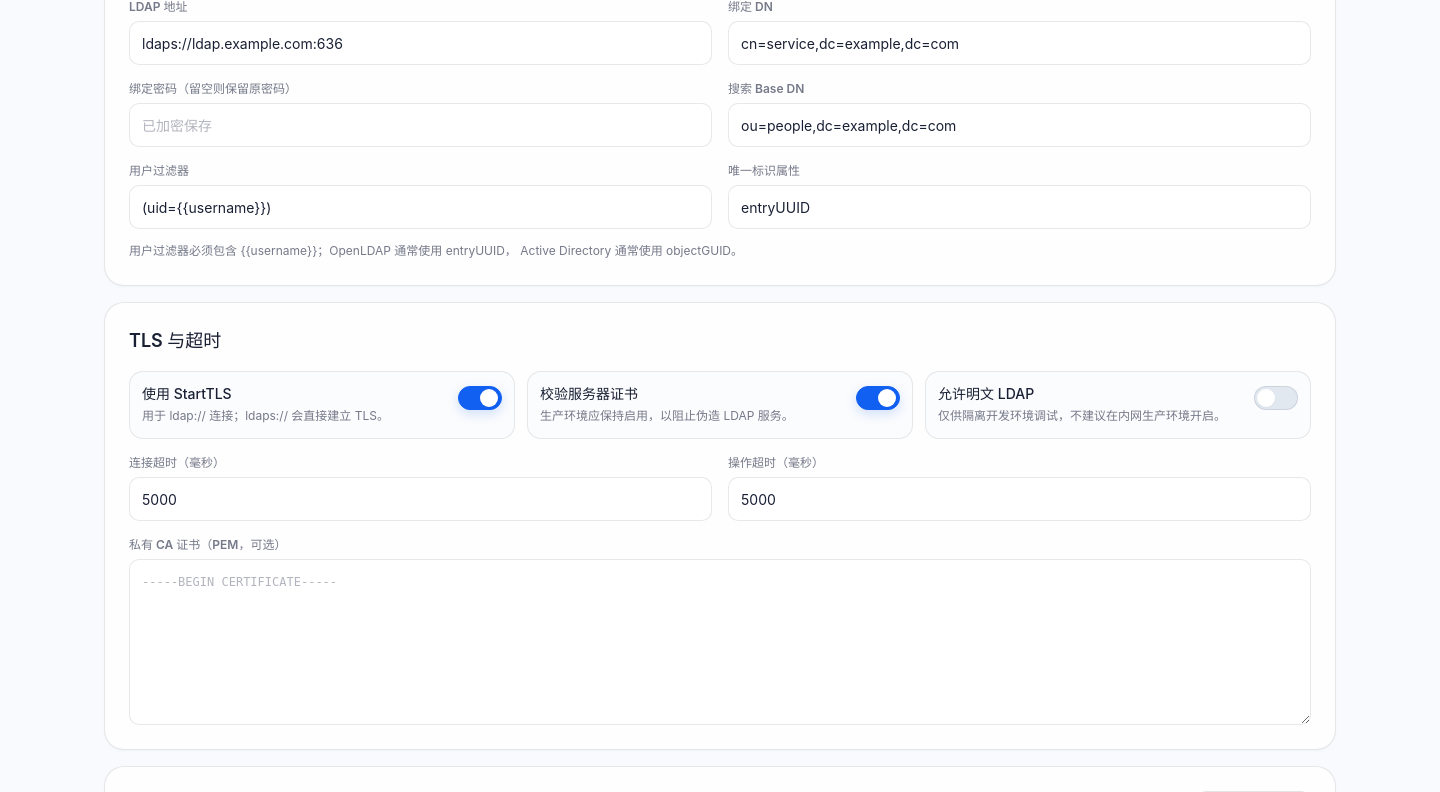
Scenario: LDAP configuration page › allows StartTLS to be disabled for any LDAP URL
This screenshot has width=1440, height=792.
(page scrolled)
Step 1. Click the switch labelled "使用 StartTLS 用于 ldap:// 连接；ldaps:// 会直接建立 TLS。" → (322,405), box [129,371,515,439]
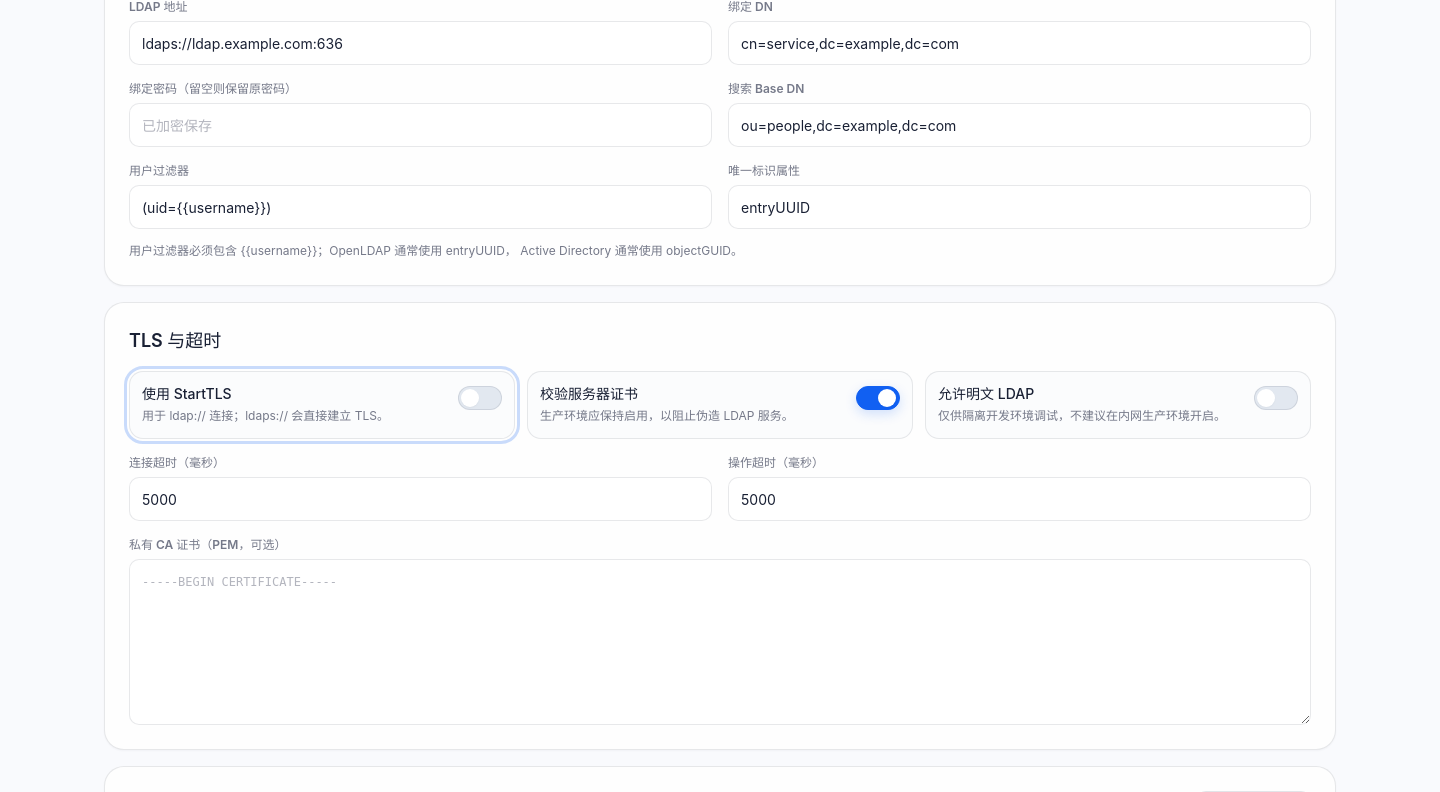
Check: the switch labelled "使用 StartTLS 用于 ldap:// 连接；ldaps:// 会直接建立 TLS。" is not checked, box [129,371,515,439]
